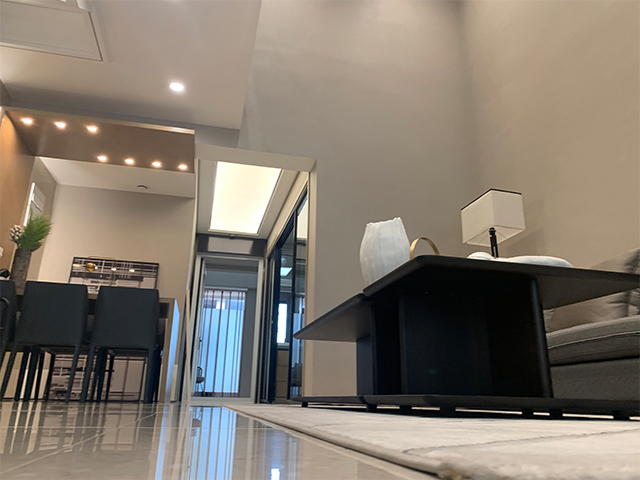carpet: (222, 402, 640, 480)
stool: (1, 278, 92, 402), (80, 282, 162, 404)
table: (289, 254, 640, 422)
